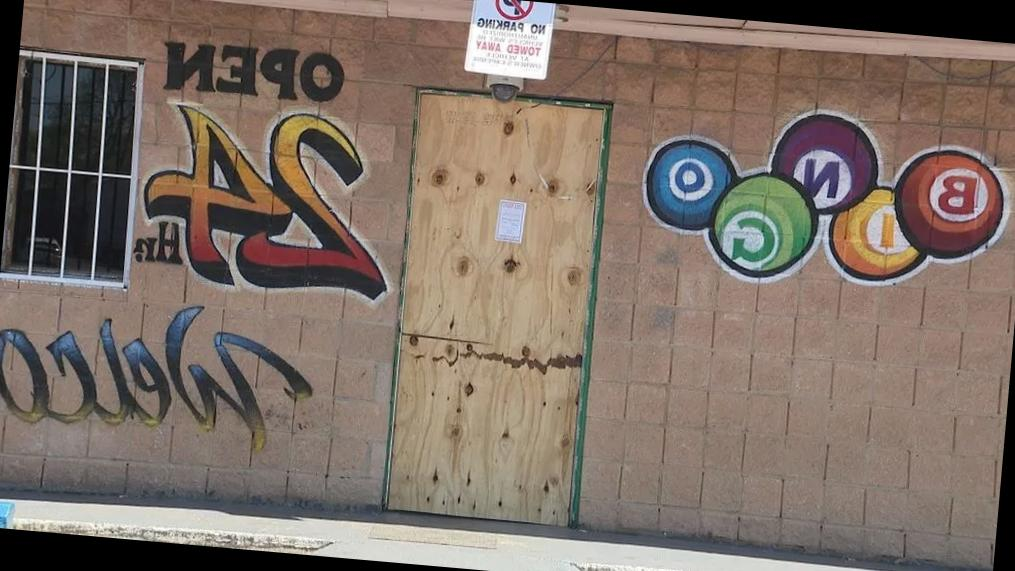graffiti: (642, 110, 1009, 285), (131, 103, 386, 299), (0, 305, 312, 452), (164, 40, 343, 102)
